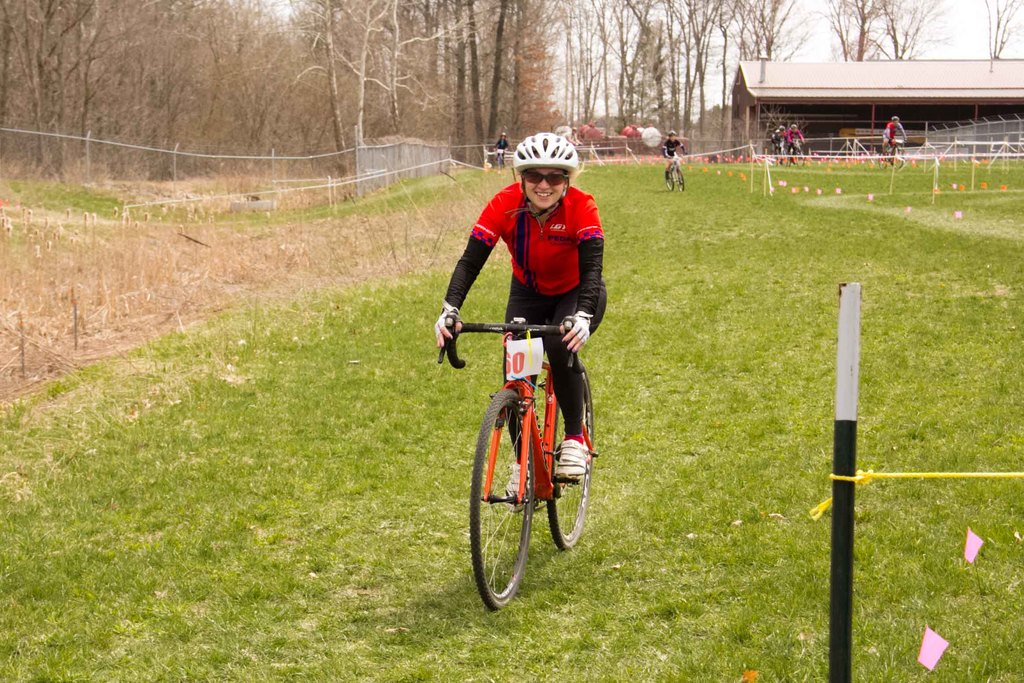Bicycle: (460, 271, 610, 620), (660, 151, 686, 191), (876, 135, 904, 172), (784, 135, 804, 168), (771, 138, 787, 167), (494, 146, 506, 172)
